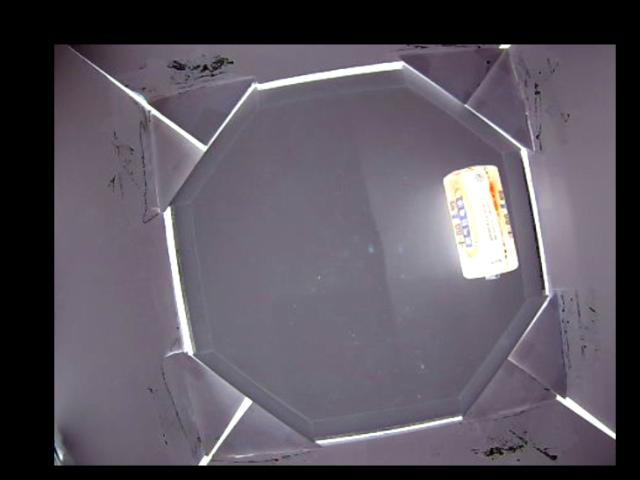Battery: (442, 163, 520, 279)
